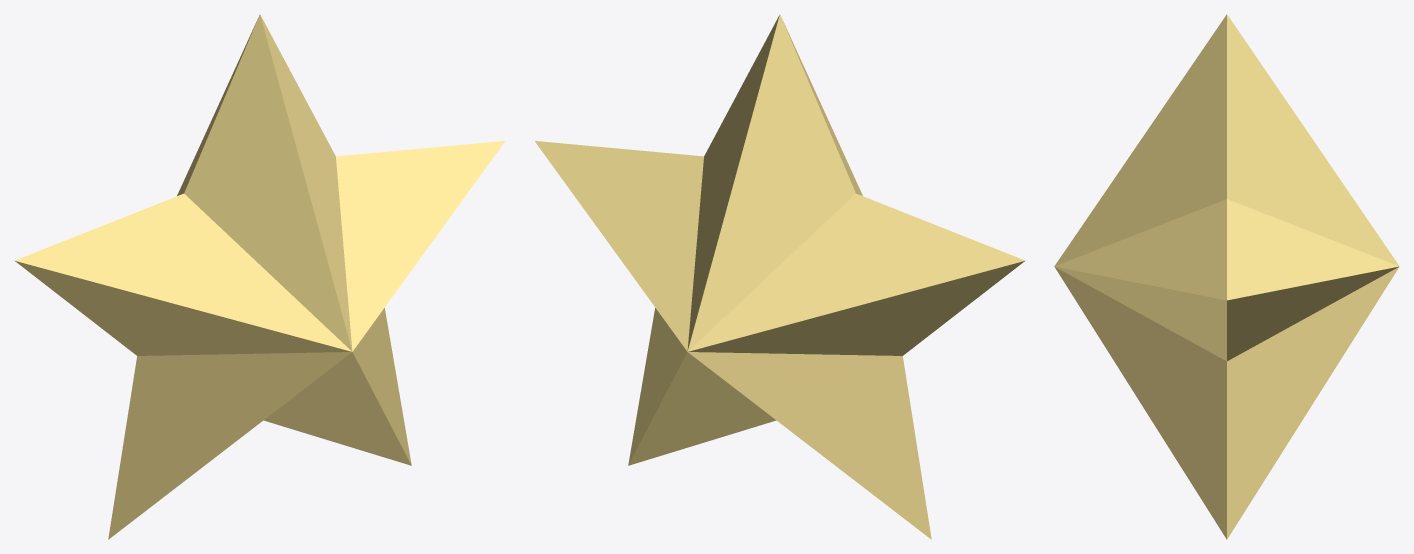
Rendered from gwiazda.glb.
3 renders of one model, left to right at view 1: azimuth 30°, elevation 25°; view 2: azimuth 150°, elevation 25°; view 3: azimuth 270°, elevation 25°, orthographic. The views are drawn at different scales.
Parts seen in each view (by area): view 1: Gwiazdka; view 2: Gwiazdka; view 3: Gwiazdka.
Boxes of the visible parts, left/top/right/bottom form: Gwiazdka: left=15, top=14, right=504, bottom=539; Gwiazdka: left=535, top=14, right=1024, bottom=539; Gwiazdka: left=1054, top=14, right=1399, bottom=539.
Size of the model in its own units: 1.9 by 1.81 by 1.24.
